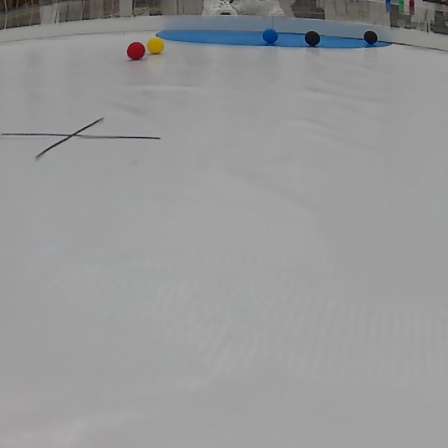black: (303, 29, 324, 48), (363, 30, 379, 43)
blue: (261, 28, 283, 47)
blue_base: (151, 28, 400, 51)
red: (122, 39, 146, 62)
yellow: (146, 34, 168, 57)
